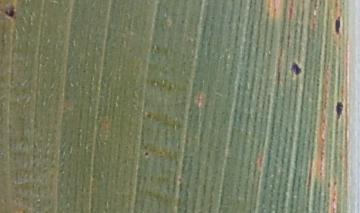tarspot: (2, 3, 17, 20), (289, 61, 303, 78), (334, 100, 344, 122), (333, 15, 342, 37), (326, 180, 331, 189), (143, 151, 149, 157), (332, 180, 337, 186)
